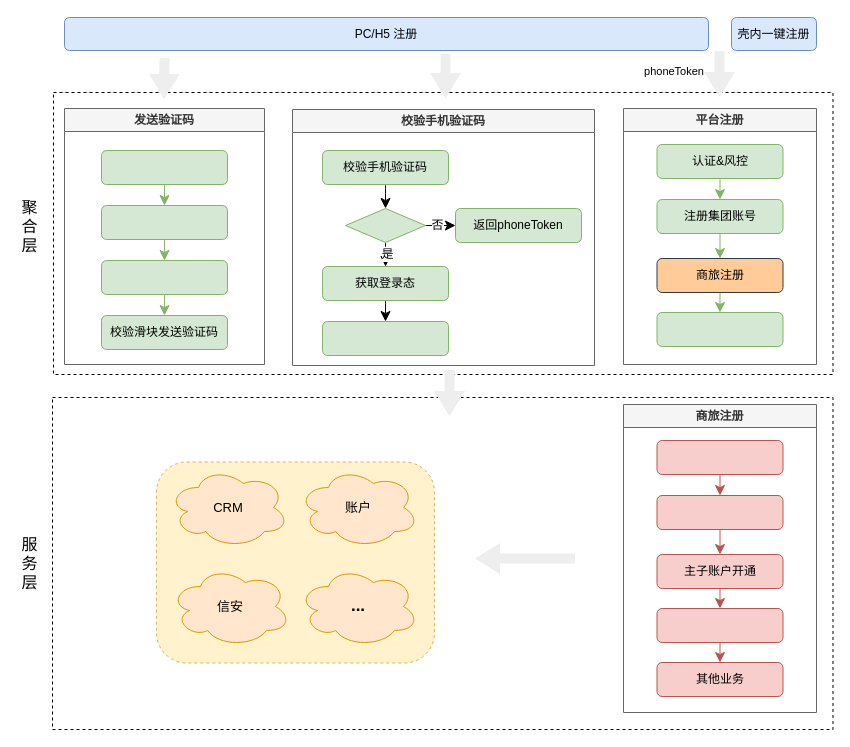
Some shapes in this 850 by 747 pixel diagram are drawn without their labels. Each missing label, with the box of its shape:
CRM开通: (656, 494, 783, 530)
setCookie: (322, 320, 448, 356)
发送次数拦截: (100, 260, 228, 294)
各类任务: (656, 312, 783, 346)
已注册判断: (100, 204, 228, 240)
是否注册: (344, 208, 426, 242)
注册商旅账户: (656, 440, 783, 474)
注册表落库: (656, 608, 783, 642)
黑名单: (100, 150, 228, 184)
